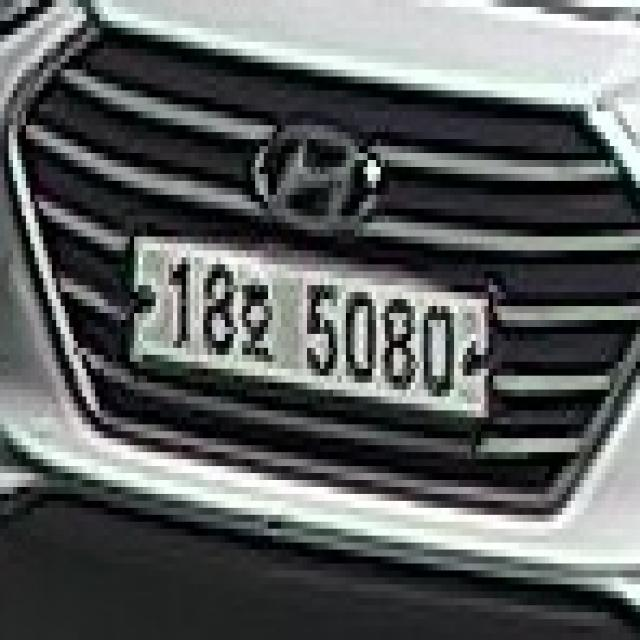0: (419, 299, 458, 411), (342, 285, 376, 397)
1: (164, 250, 195, 362)
5: (298, 271, 342, 383)
8: (376, 292, 419, 404), (199, 257, 238, 362)
ho: (238, 271, 281, 376)
license_plate: (121, 223, 497, 445)
